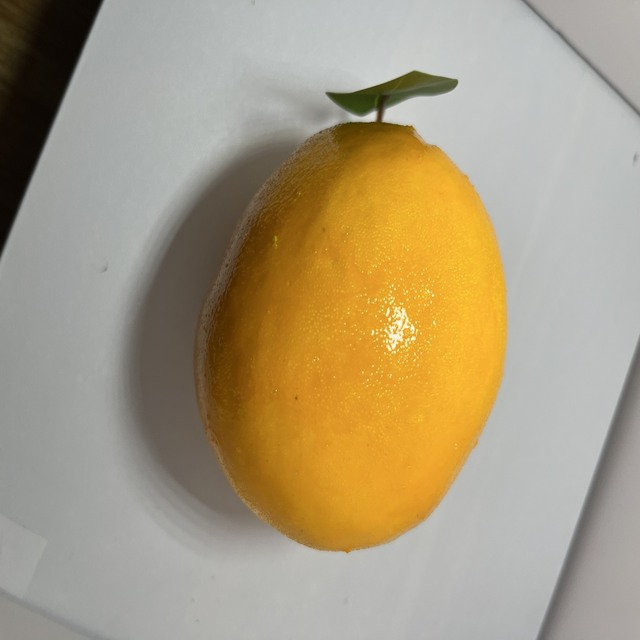Cam vang: (190, 115, 525, 557)
